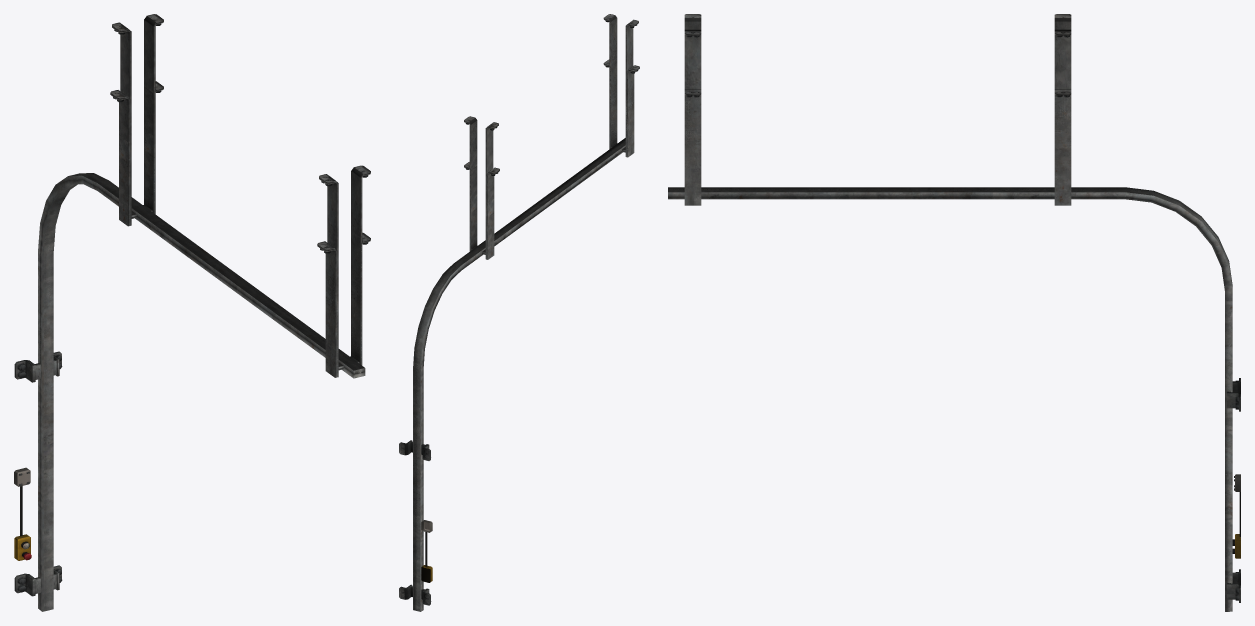
Rendered from tor_fuehrungen.fbx.
3 renders of one model, left to right at view 1: azimuth 30°, elevation 25°; view 2: azimuth 150°, elevation 25°; view 3: azimuth 270°, elevation 25°, orthographic. The views are drawn at different scales.
Parts seen in each view (by area): view 1: tor_fuehrung_hoch_links, tor_fuehrung_hoch_rechts, tor_fuehrung_normal_links, tor_fuehrung_normal_rechts; view 2: tor_fuehrung_hoch_links, tor_fuehrung_hoch_rechts, tor_fuehrung_normal_links, tor_fuehrung_normal_rechts; view 3: tor_fuehrung_hoch_links, tor_fuehrung_hoch_rechts, tor_fuehrung_normal_rechts.
Part boxes in pixels (box(x1,y1,x2,y2)): tor_fuehrung_hoch_links: box(17, 22, 365, 611); tor_fuehrung_hoch_rechts: box(38, 14, 370, 611); tor_fuehrung_normal_links: box(14, 90, 362, 611); tor_fuehrung_normal_rechts: box(38, 81, 370, 611); tor_fuehrung_hoch_links: box(413, 19, 638, 611); tor_fuehrung_hoch_rechts: box(399, 14, 625, 611); tor_fuehrung_normal_links: box(414, 65, 639, 611); tor_fuehrung_normal_rechts: box(400, 59, 625, 611); tor_fuehrung_hoch_links: box(668, 14, 1240, 611); tor_fuehrung_hoch_rechts: box(684, 29, 1240, 395); tor_fuehrung_normal_rechts: box(668, 89, 1240, 602).
Size of the model in its own units: 45.27 by 605 by 537.
